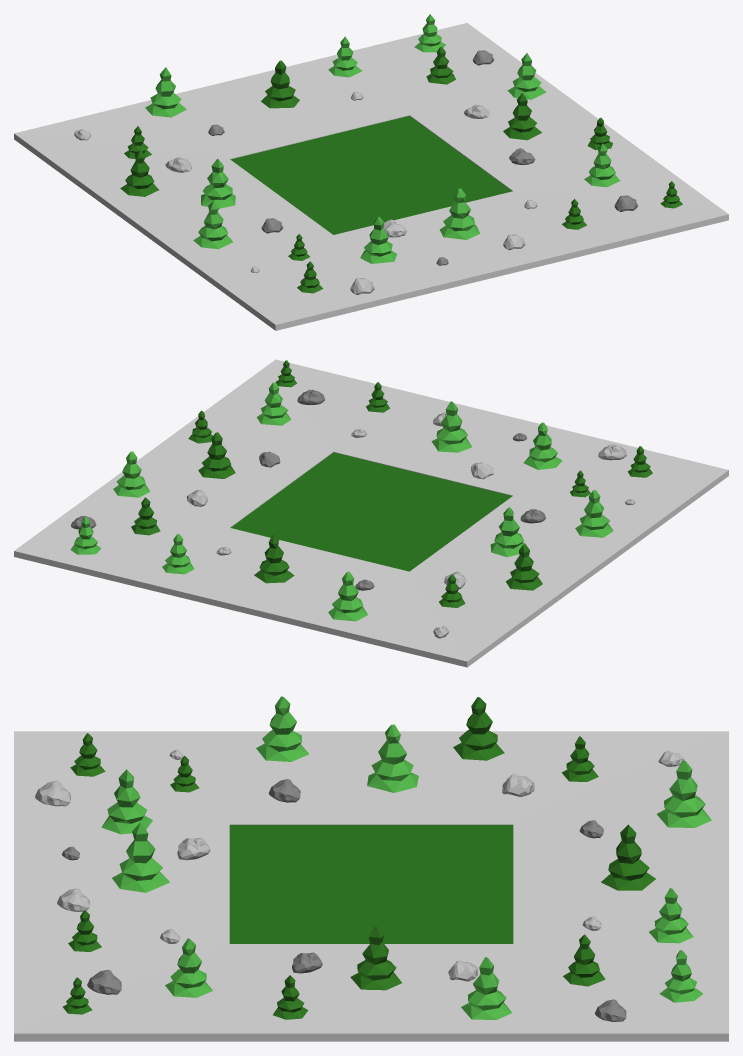
Rendered from Map.fbx.
3 views of the same model, one above another, from view 1: azimuth 30°, elevation 25°; view 2: azimuth 150°, elevation 25°; view 3: azimuth 270°, elevation 25° (orthographic). The views are drawn at different scales.
Parts seen in each view (by area): view 1: Cube.001, Cube, Cylinder.014, Cylinder.009, Cylinder.013, Cylinder.005, Cylinder.010, Cylinder.007, Cylinder.011, Cylinder.004, Cylinder.001, Cylinder.017 (+3 smaller); view 2: Cube.001, Cube, Cylinder.014, Cylinder.009, Cylinder.005, Cylinder.010, Cylinder.013, Cylinder.007, Cylinder.004, Cylinder.011, Cylinder.001, Cylinder.017 (+4 smaller); view 3: Cube.001, Cube, Cylinder.014, Cylinder.009, Cylinder.013, Cylinder.005, Cylinder.010, Cylinder.004, Cylinder.011, Cylinder.001, Cylinder.007, Cylinder.017 (+15 smaller).
Part boxes in pixels (x1,y1,x2,y2): Cube.001: [14, 23, 728, 330]; Cube: [230, 116, 511, 234]; Cylinder.014: [439, 188, 479, 239]; Cylinder.009: [145, 67, 186, 117]; Cylinder.013: [201, 159, 235, 208]; Cylinder.005: [261, 60, 299, 108]; Cylinder.010: [193, 200, 233, 249]; Cylinder.007: [360, 217, 396, 263]; Cylinder.011: [120, 150, 158, 196]; Cylinder.004: [503, 93, 541, 140]; Cylinder.001: [507, 53, 546, 99]; Cylinder.017: [584, 143, 620, 187]; Cube.001: [14, 359, 728, 667]; Cube: [230, 452, 512, 571]; Cylinder.014: [431, 401, 471, 452]; Cylinder.009: [328, 571, 367, 621]; Cylinder.005: [254, 535, 294, 583]; Cylinder.010: [575, 490, 613, 537]; Cylinder.013: [490, 507, 526, 557]; Cylinder.007: [523, 422, 562, 469]; Cylinder.004: [198, 432, 235, 478]; Cylinder.011: [506, 544, 542, 590]; Cylinder.001: [113, 451, 149, 497]; Cylinder.017: [256, 382, 291, 425]; Cube.001: [14, 731, 728, 1041]; Cube: [229, 825, 513, 943]; Cylinder.014: [112, 821, 169, 892]; Cylinder.009: [657, 760, 711, 827]; Cylinder.013: [367, 724, 418, 792]; Cylinder.005: [601, 824, 655, 890]; Cylinder.010: [256, 696, 308, 761]; Cylinder.004: [350, 926, 401, 990]; Cylinder.011: [453, 697, 504, 760]; Cylinder.001: [461, 957, 511, 1019]; Cylinder.007: [101, 769, 152, 834]; Cylinder.017: [165, 938, 212, 997].
Size of the model in its own units: 75.63 by 8.59 by 75.63.
